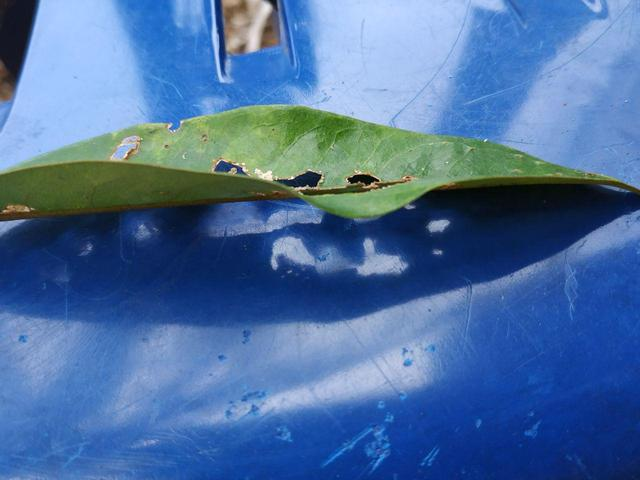blight spot: (205, 151, 323, 187), (107, 136, 149, 158), (342, 169, 388, 187)
